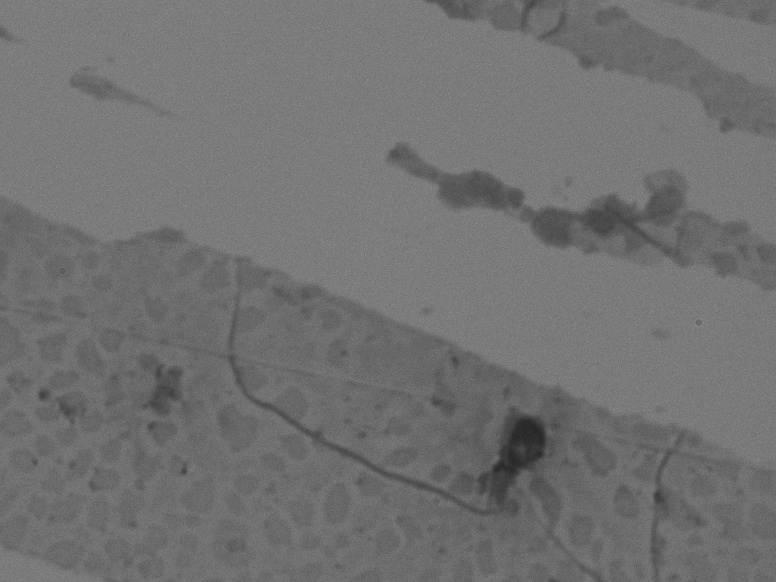Abnormal: (195, 274, 563, 539)
